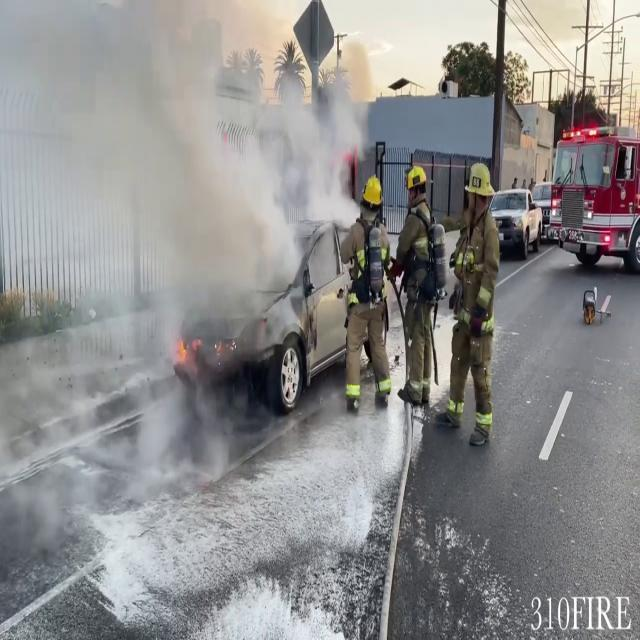Smoke: (24, 9, 372, 349)
